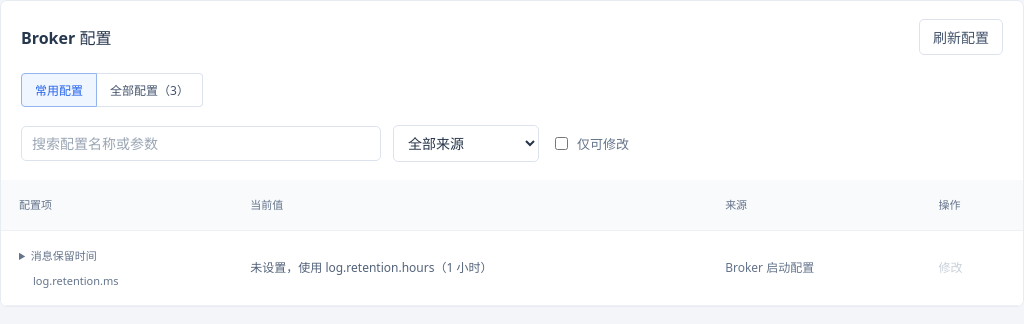
explains the actual minute or hour retention setting without replacing the absent millisecond value
expect the text with class "config-current-value" reads "未设置，使用 log.retention.hours（1 小时）": met, box top-left (250, 259), bottom-right (492, 276)
Click the button "刷新配置".
click(961, 37)  # box top-left (919, 19), bottom-right (1003, 55)
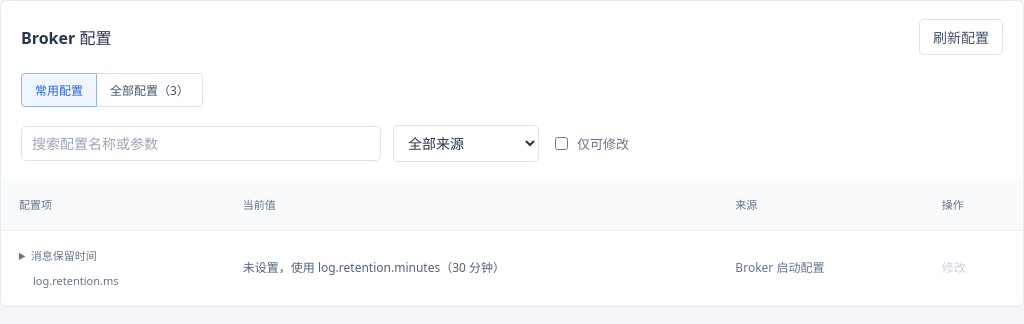
expect the text with class "config-current-value" reads "未设置，使用 log.retention.minutes（30 分钟）": met, box top-left (243, 259), bottom-right (505, 276)
